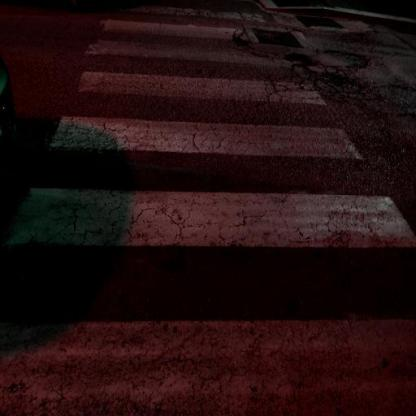crosswalk: (1, 110, 415, 262)
